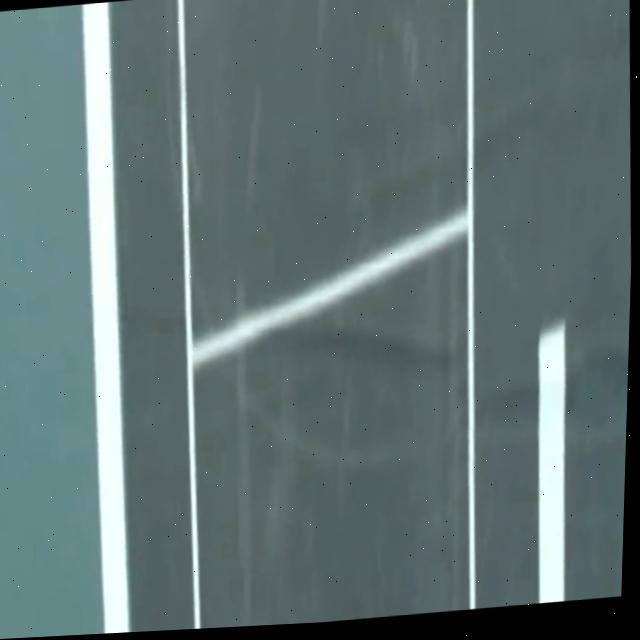center: (538, 322, 564, 603)
left: (82, 2, 129, 634)
